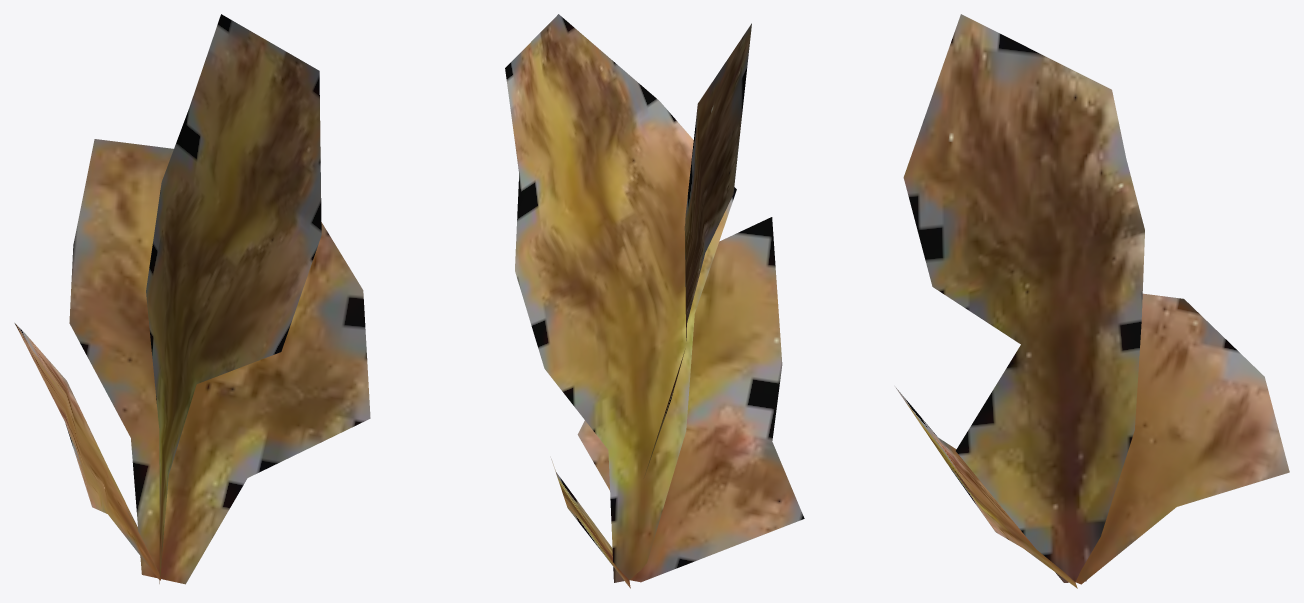
The model's file is Seaweed_D1-transformed.glb.
3 renders of one model, left to right at view 1: azimuth 30°, elevation 25°; view 2: azimuth 150°, elevation 25°; view 3: azimuth 270°, elevation 25°, orthographic.
Parts seen in each view (by area): view 1: Seaweed_D1; view 2: Seaweed_D1; view 3: Seaweed_D1.
Boxes of the visible parts, bbox=[...] form: Seaweed_D1: bbox=[14, 14, 370, 584]; Seaweed_D1: bbox=[505, 14, 804, 588]; Seaweed_D1: bbox=[895, 14, 1289, 588].
Size of the model in its own units: 0.5828 by 0.8968 by 0.6922.
Materials: 1 (1 with a texture image).
